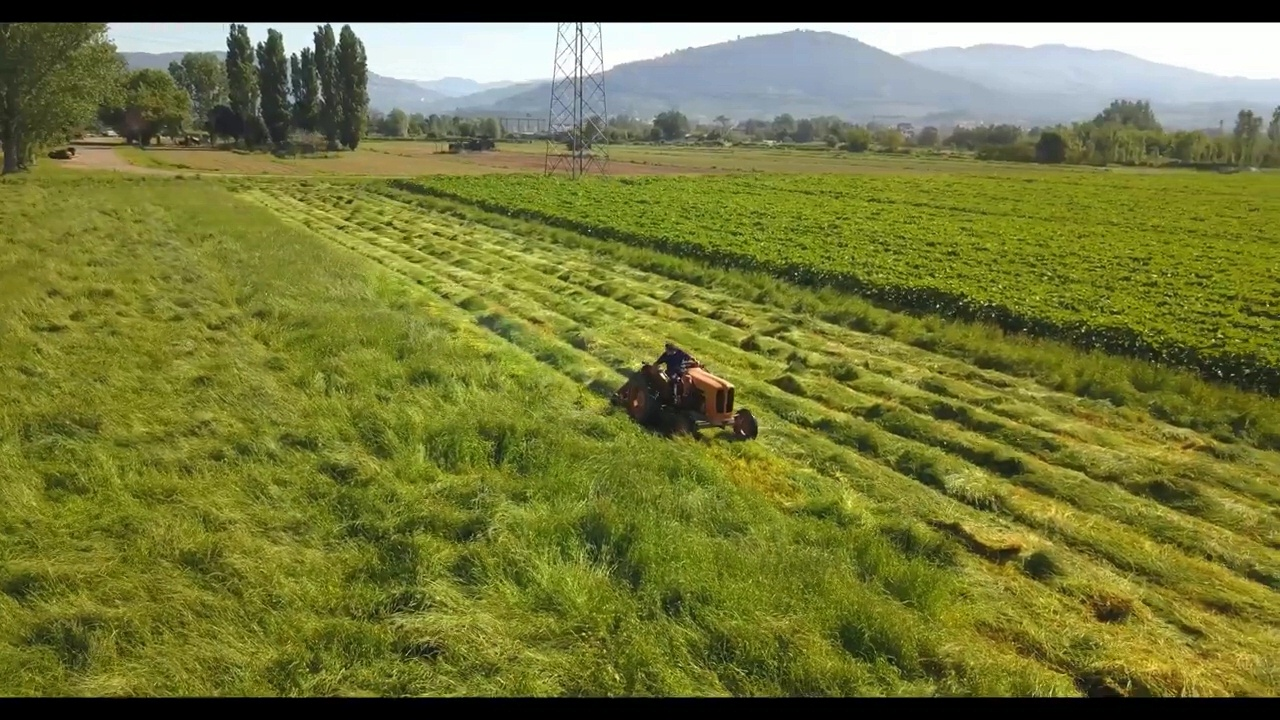insan: (656, 341, 701, 399)
traktor: (621, 360, 759, 442)
